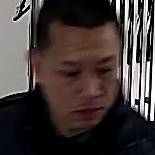qg: (26, 13, 141, 128)
